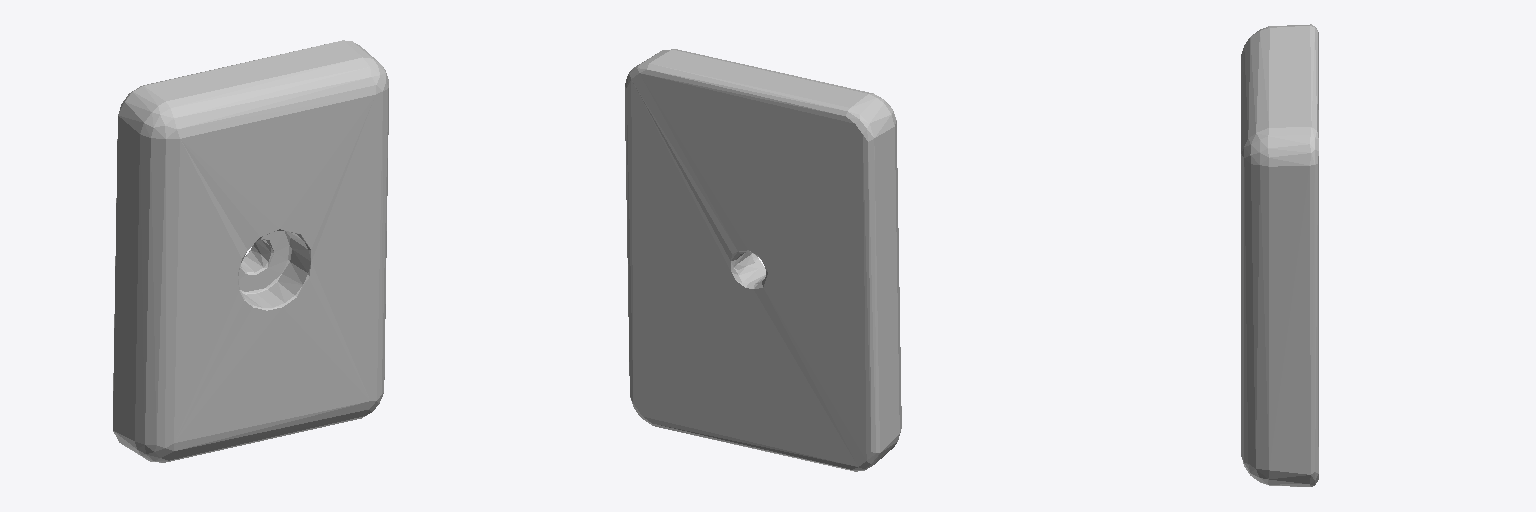
Rendered from weight_left_vis.obj.
3 renders of one model, left to right at view 1: azimuth 30°, elevation 25°; view 2: azimuth 150°, elevation 25°; view 3: azimuth 270°, elevation 25°, orthographic.
Visible parts, largest first — view 1: Weight_left_vis; view 2: Weight_left_vis; view 3: Weight_left_vis.
Part boxes in pixels (x1,y1,x2,y2): Weight_left_vis: (113,40,388,462); Weight_left_vis: (625,49,901,471); Weight_left_vis: (1241,24,1318,486).
Size of the model in its own units: 0.0424 by 0.058 by 0.0112.